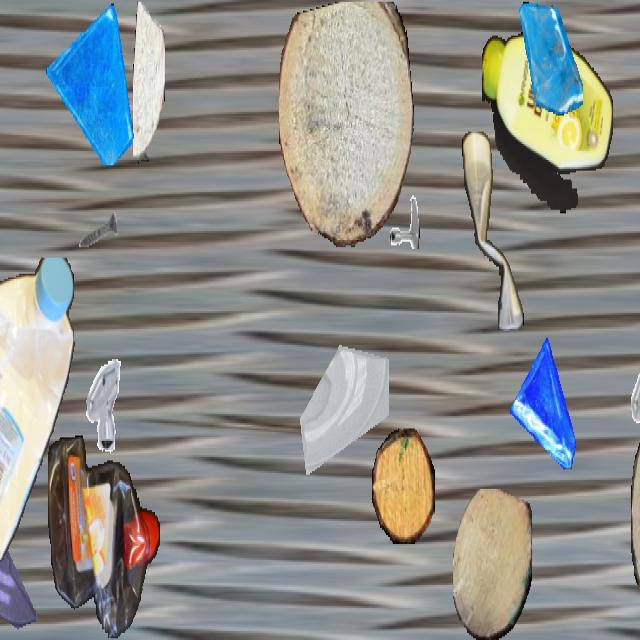glass: (296, 309, 388, 473), (46, 2, 138, 165), (510, 338, 584, 469), (519, 1, 583, 116), (0, 489, 37, 638)
metal: (72, 351, 130, 454), (378, 174, 420, 249), (77, 192, 119, 267), (617, 349, 640, 455)
plastic: (482, 32, 612, 213), (0, 257, 76, 564), (48, 436, 160, 638), (462, 132, 524, 330)
wood: (279, 2, 413, 247), (453, 489, 531, 638), (372, 428, 434, 542), (133, 2, 165, 162), (631, 382, 640, 638)
